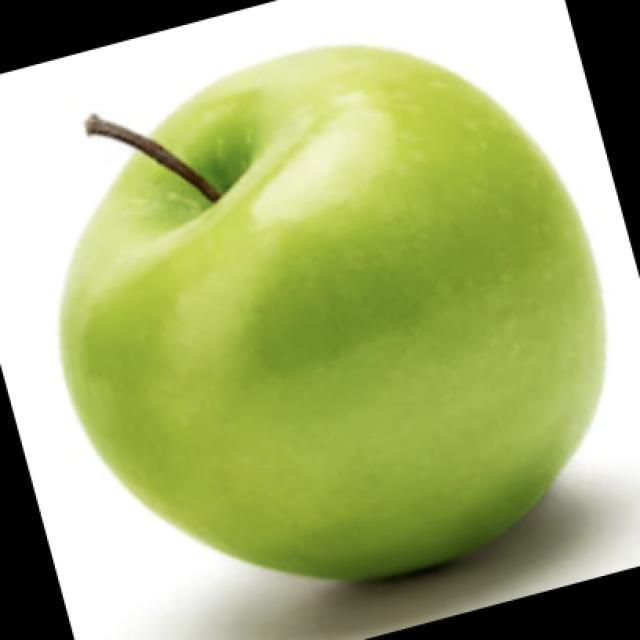Fresh Apple: (56, 52, 592, 568)
